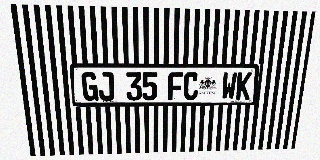3: (126, 72, 142, 101)
5: (142, 72, 157, 100)
C: (183, 72, 199, 100)
F: (168, 72, 183, 100)
G: (81, 72, 99, 101)
J: (98, 72, 114, 101)
K: (235, 72, 252, 100)
W: (221, 72, 237, 100)
